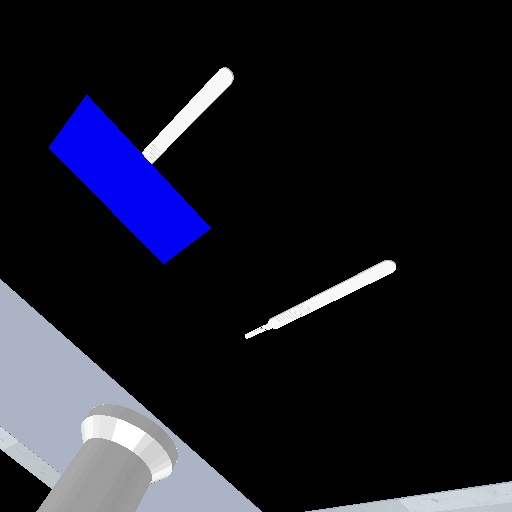bisturi: (242, 255, 400, 342), (137, 62, 239, 165)
